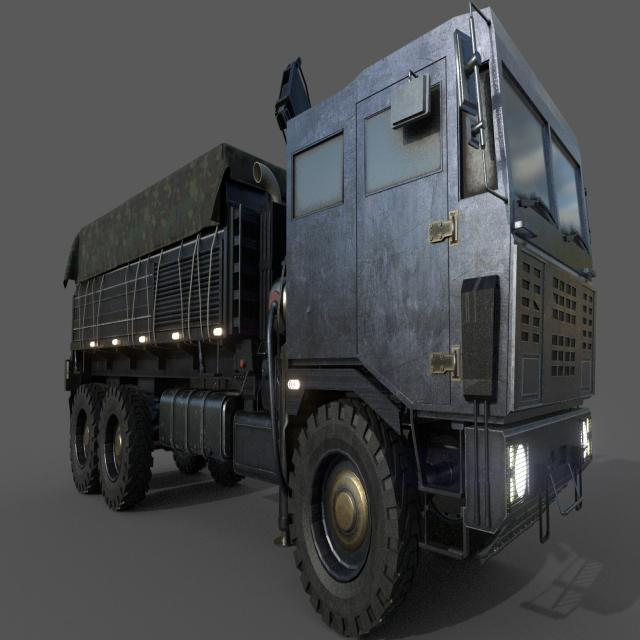truck: (65, 4, 595, 636)
